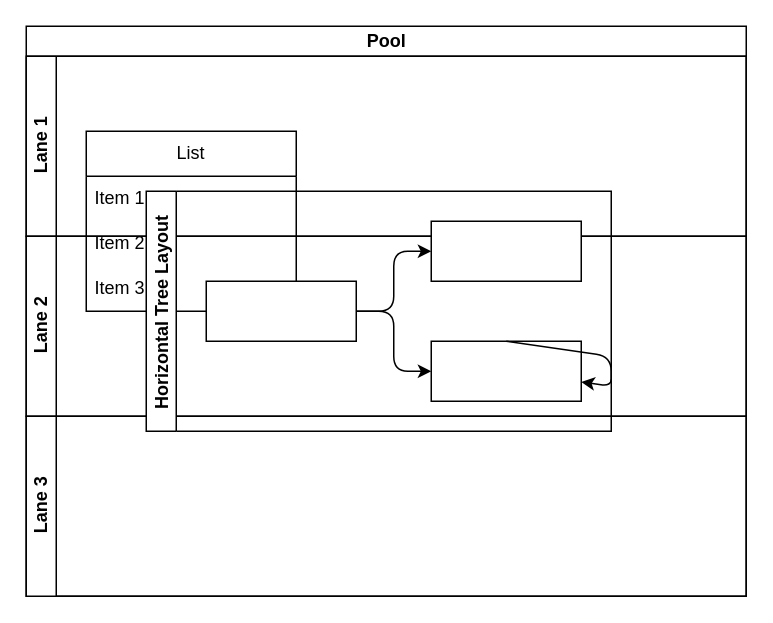
The diagram is 773 pixels wide and 623 high, and some of its shapes have lost their labels. The shapes that lost their labels are listed below. From the top down, each one's centre as x and y in pixels, then its label:
(505,250): Child 1
(280,310): Root
(505,370): Child 2
